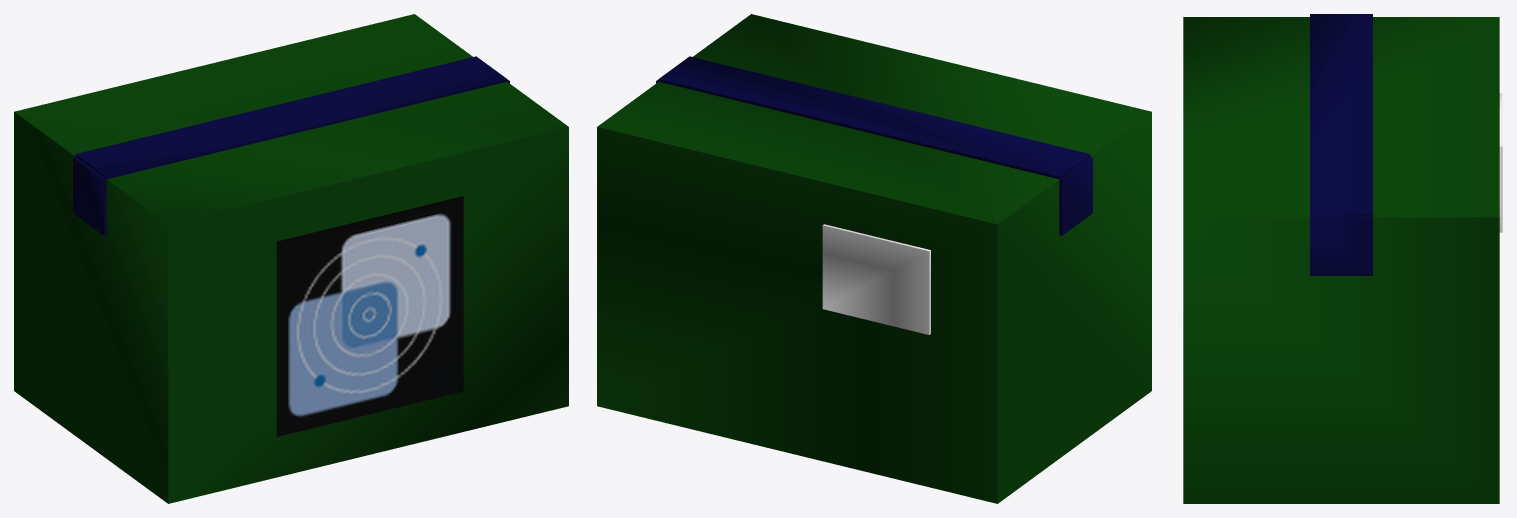
The picture shows the model from 3 angles, left to right: view 1: azimuth 30°, elevation 25°; view 2: azimuth 150°, elevation 25°; view 3: azimuth 270°, elevation 25°; orthographic projection. The views are drawn at different scales.
Visible parts, largest first — view 1: box0000002, rect, box0000003, box; view 2: box0000002, box0000003, box0000005, box; view 3: box0000002, box0000003, box0000001, box0000005.
Part boxes in pixels (x1=…): box0000002: x1=14, y1=14, x2=568, y2=503; rect: x1=276, y1=196, x2=463, y2=436; box0000003: x1=75, y1=56, x2=507, y2=179; box: x1=73, y1=157, x2=106, y2=235; box0000002: x1=597, y1=14, x2=1151, y2=503; box0000003: x1=658, y1=56, x2=1090, y2=179; box0000005: x1=822, y1=224, x2=930, y2=334; box: x1=1059, y1=157, x2=1092, y2=235; box0000002: x1=1183, y1=17, x2=1499, y2=503; box0000003: x1=1310, y1=14, x2=1372, y2=217; box0000001: x1=1310, y1=217, x2=1372, y2=275; box0000005: x1=1499, y1=93, x2=1502, y2=232.
Bounding box in the file's own units: 15.2 × 10.1 × 10.2.
